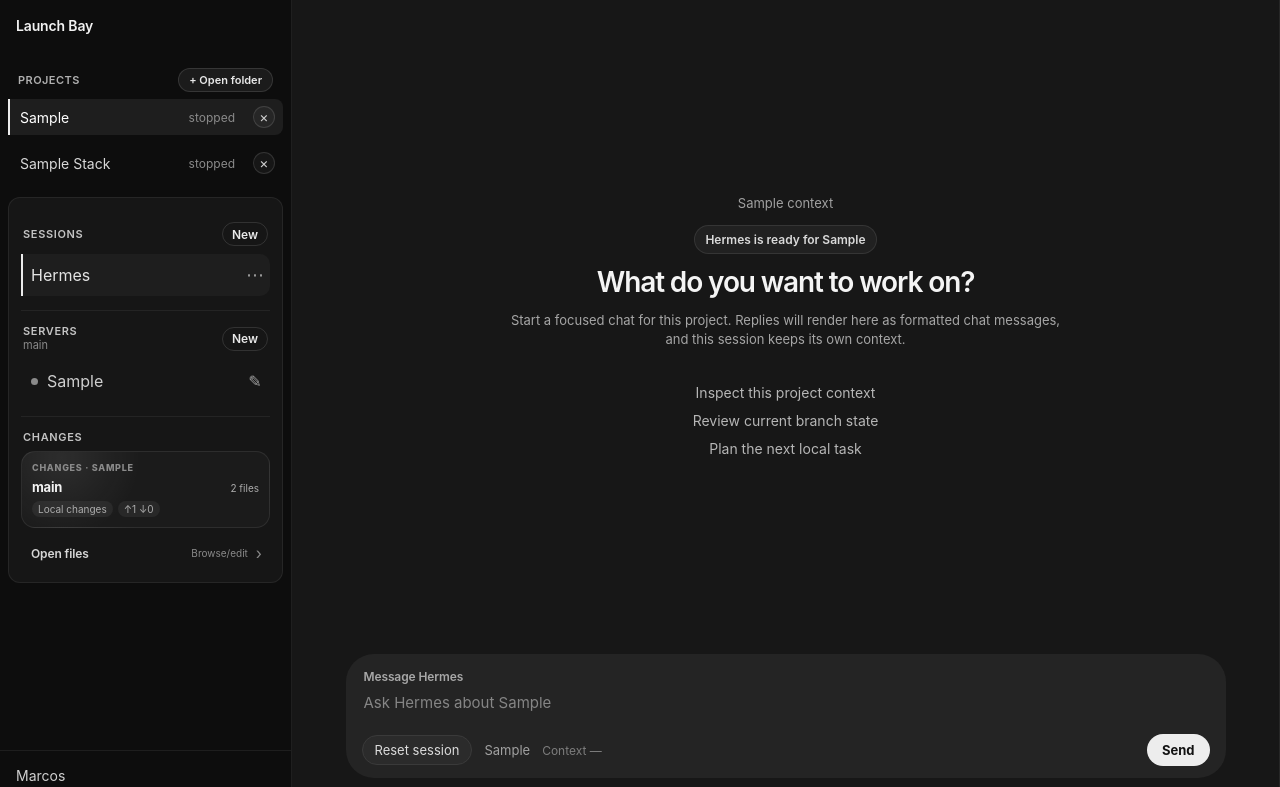
Scenario: Launch Bay shell › switches between Hermes chat and project server logs
Expected: the heading "What do you want to work on?" is shown, [597,265,974,299]
Expected: the text box named "Message Hermes about Sample" is shown, [362,692,1210,716]
Click the button "Servers".
click(50, 331)  # box [23,325,77,337]
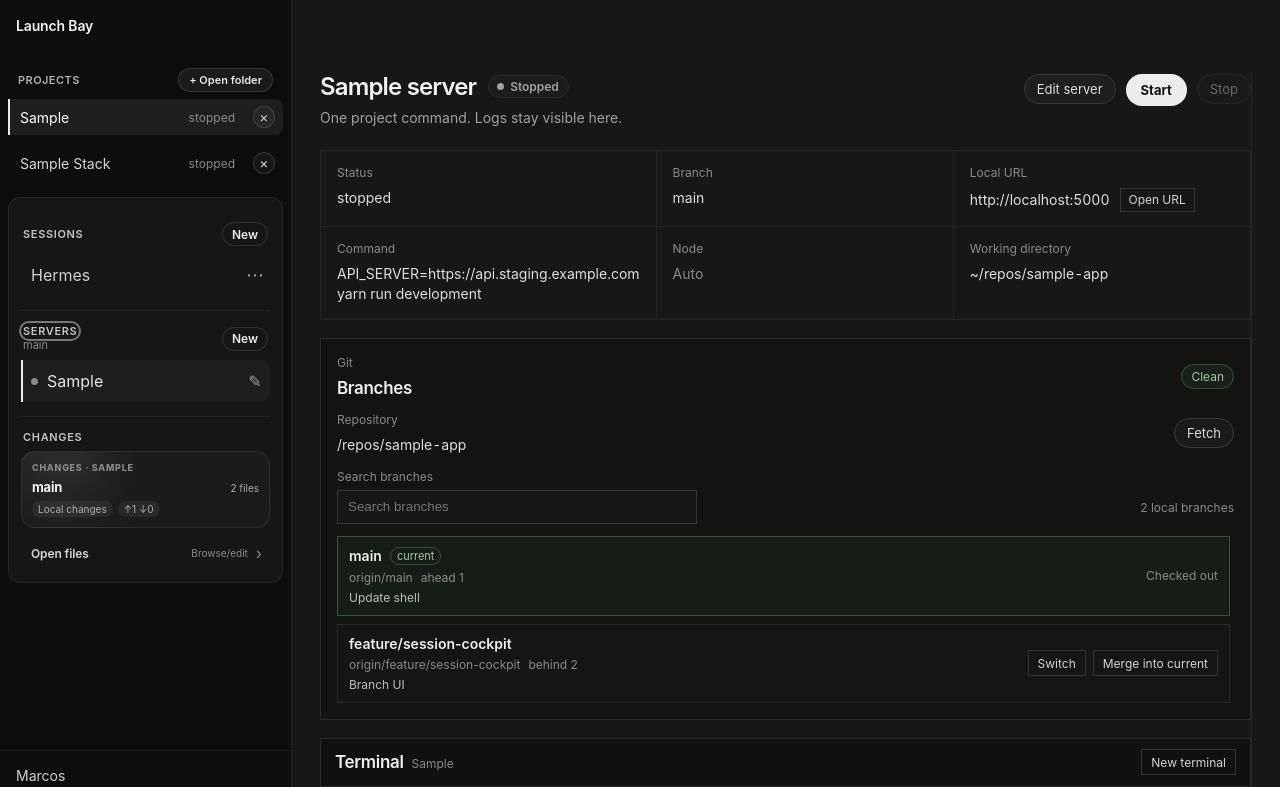
Expected: the heading "Sample server" is shown, [320,72,476,101]
Expected: the text "API_SERVER=https://api.staging.example.com yarn run development" is shown, [337,264,640,305]
Expected: the text "~/repos/sample-app" is shown, [970,265,1108,282]
